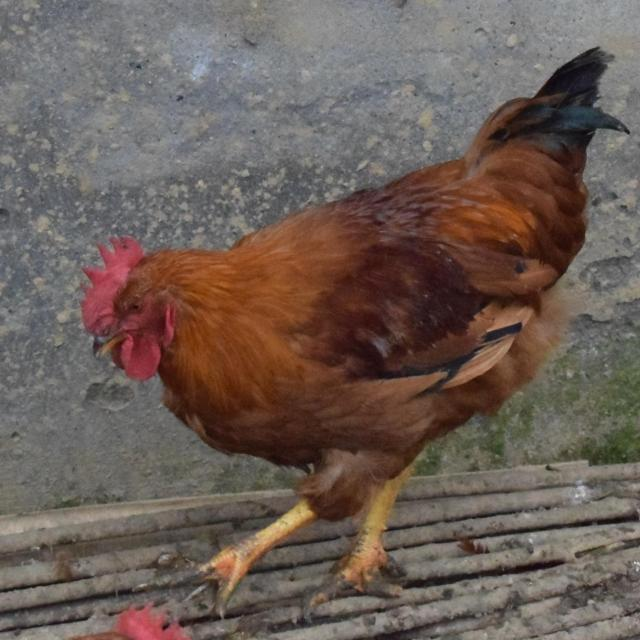cook: (82, 48, 628, 614)
